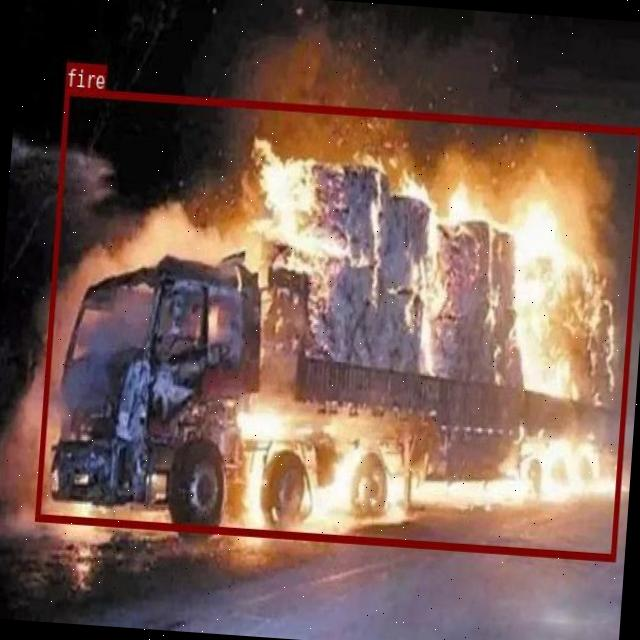fire: (34, 86, 640, 560)
